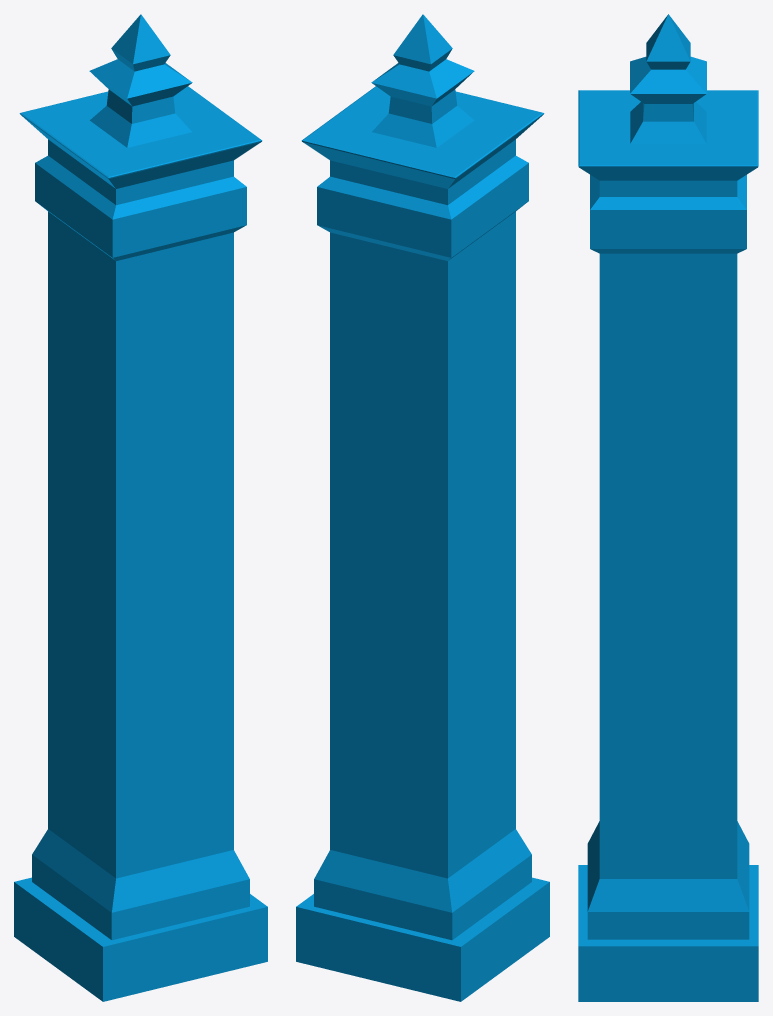
The model's file is graveyard_fencepost.fbx.
The picture shows the model from 3 angles, left to right: view 1: azimuth 30°, elevation 25°; view 2: azimuth 150°, elevation 25°; view 3: azimuth 270°, elevation 25°; orthographic projection.
Visible parts, largest first — view 1: fence_post; view 2: fence_post; view 3: fence_post.
Part boxes in pixels (x1,y1,x2,y2): fence_post: (14,14,267,1001); fence_post: (296,14,549,1001); fence_post: (578,14,758,1001).
Bounding box in the file's own units: 23.52 × 128 × 22.
